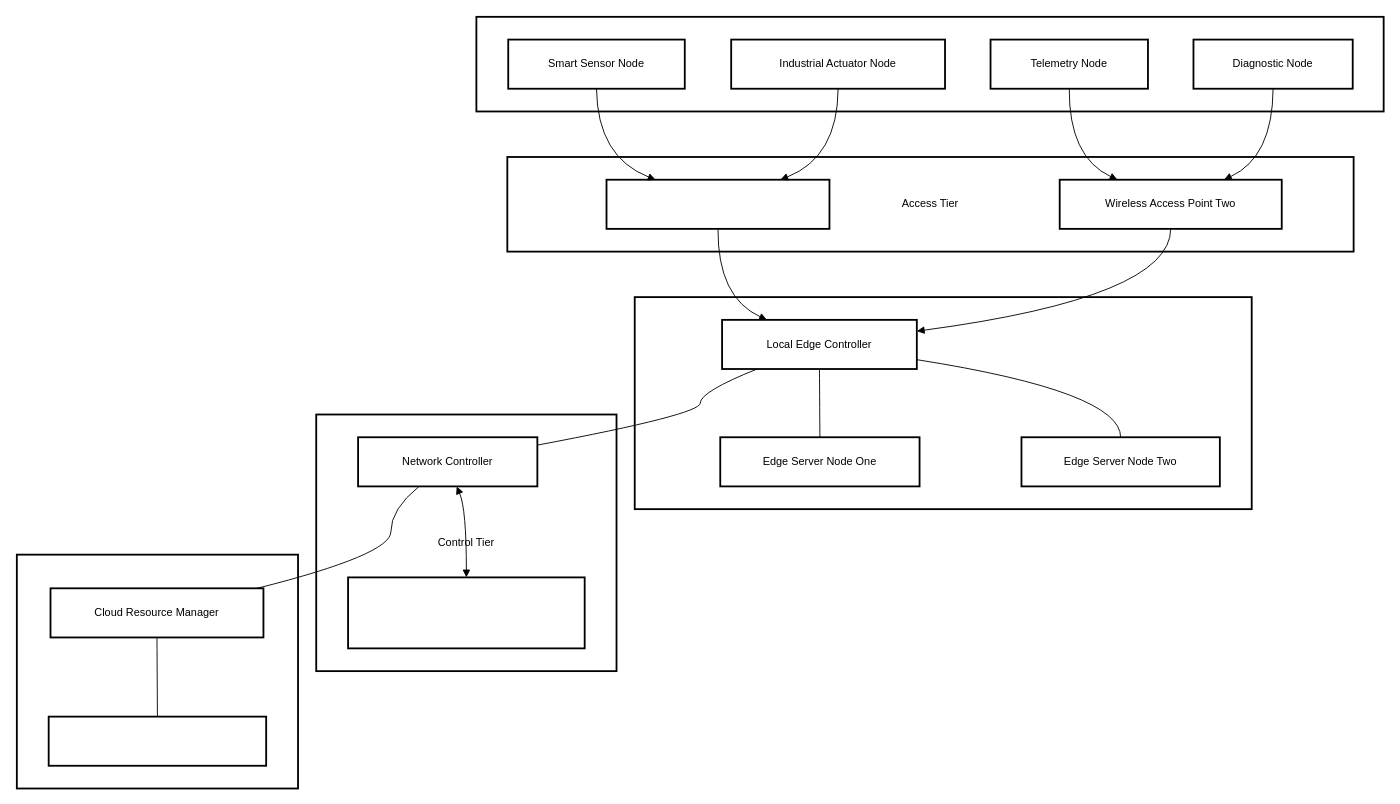
Some shapes in this 1400 by 804 pixel diagram are drawn without their labels. The box of each missing label's shape, as (x1, y1, x2, y2) in pixels:
Cloud Computing Servers: (47, 715, 267, 766)
Cloud Tier: (15, 553, 298, 789)
Device Tier: (475, 15, 1384, 112)
Edge Tier: (633, 296, 1252, 510)
Quality of Service Policy Engine: (347, 576, 585, 649)
Wireless Access Point One: (605, 178, 830, 229)
